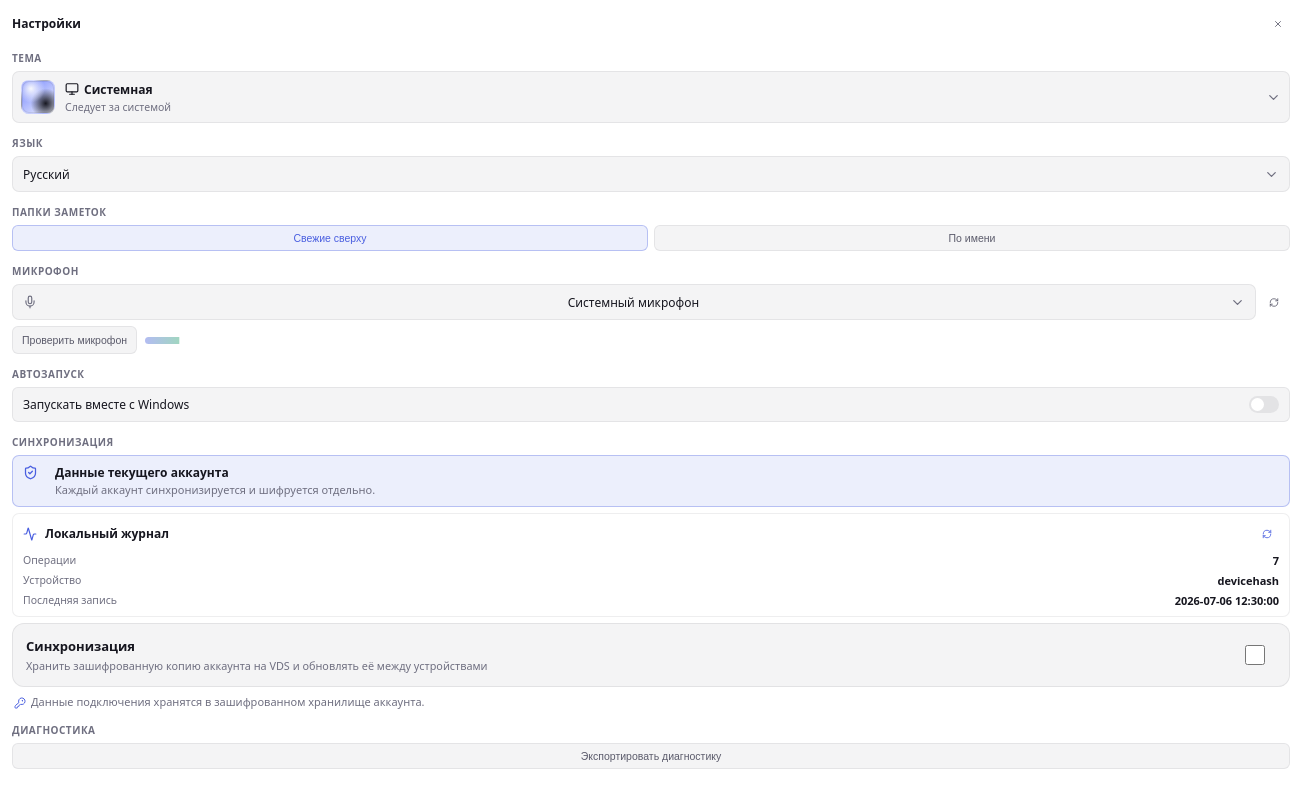
SettingsPanel › shows an error when the diagnostics export fails
Click the button "Экспортировать диагностику": click(651, 756) [12,743,1290,769]
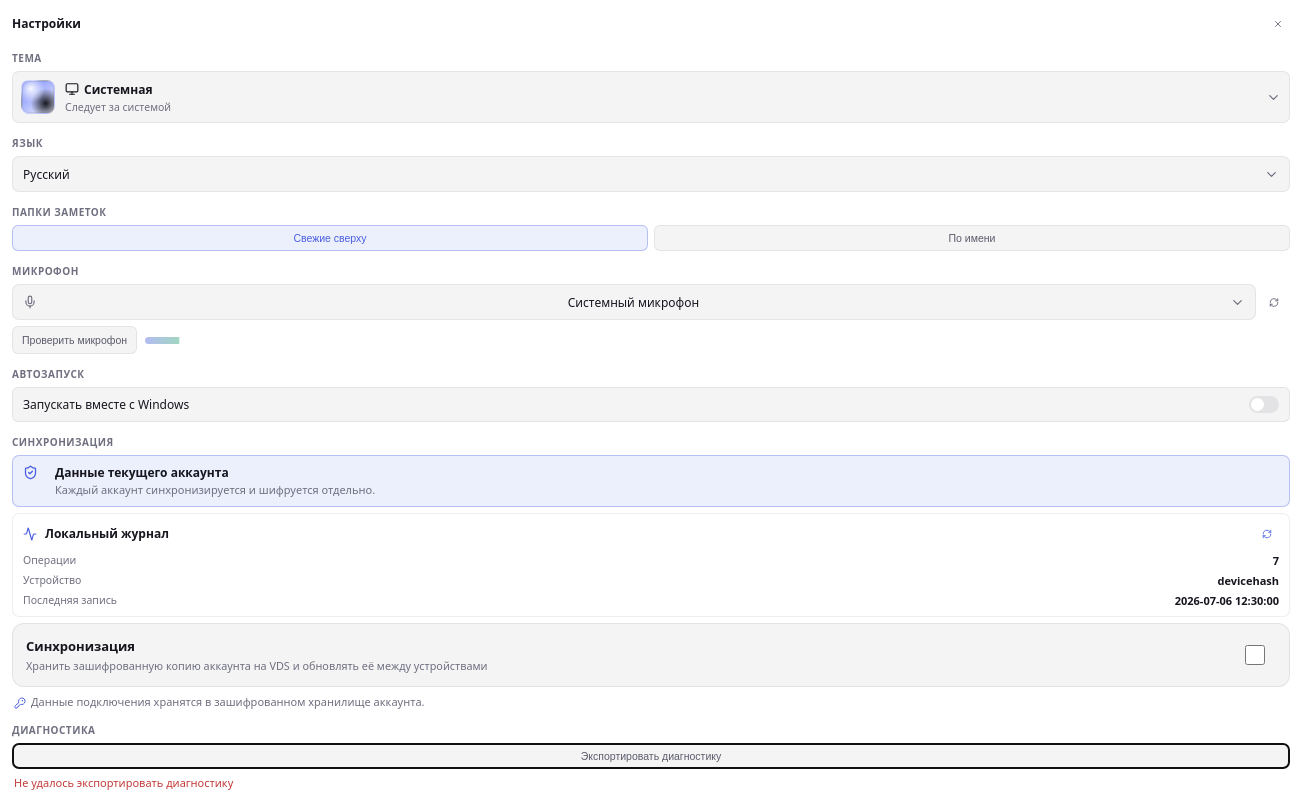
Expected: the text "Не удалось экспортировать диагностику" is shown, [14,775,233,790]
